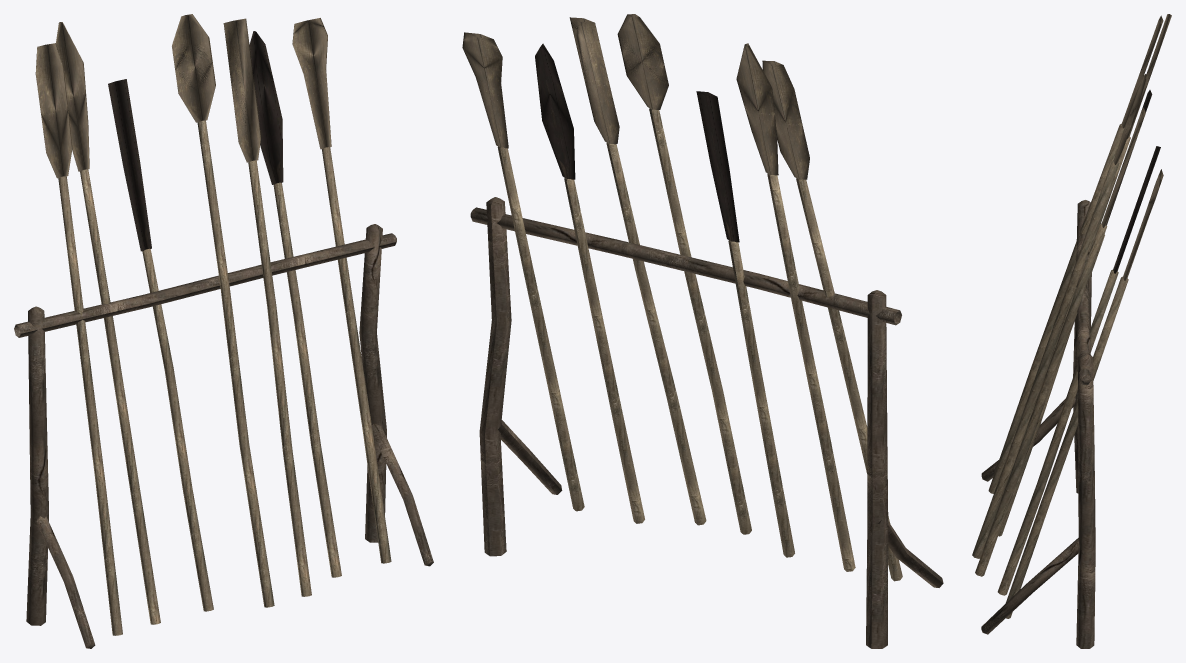
File: th_oar_stand.glb
The picture shows the model from 3 angles, left to right: view 1: azimuth 30°, elevation 25°; view 2: azimuth 150°, elevation 25°; view 3: azimuth 270°, elevation 25°; orthographic projection. The views are drawn at different scales.
Visible parts, largest first — view 1: th_oar_stand; view 2: th_oar_stand; view 3: th_oar_stand.
Part boxes in pixels (bbox=[...]): th_oar_stand: bbox=[14, 14, 433, 648]; th_oar_stand: bbox=[462, 14, 943, 648]; th_oar_stand: bbox=[972, 14, 1171, 648].
Bounding box in the file's own units: 2.02 × 2.8 × 0.9933.
1 material, 1 textured.
